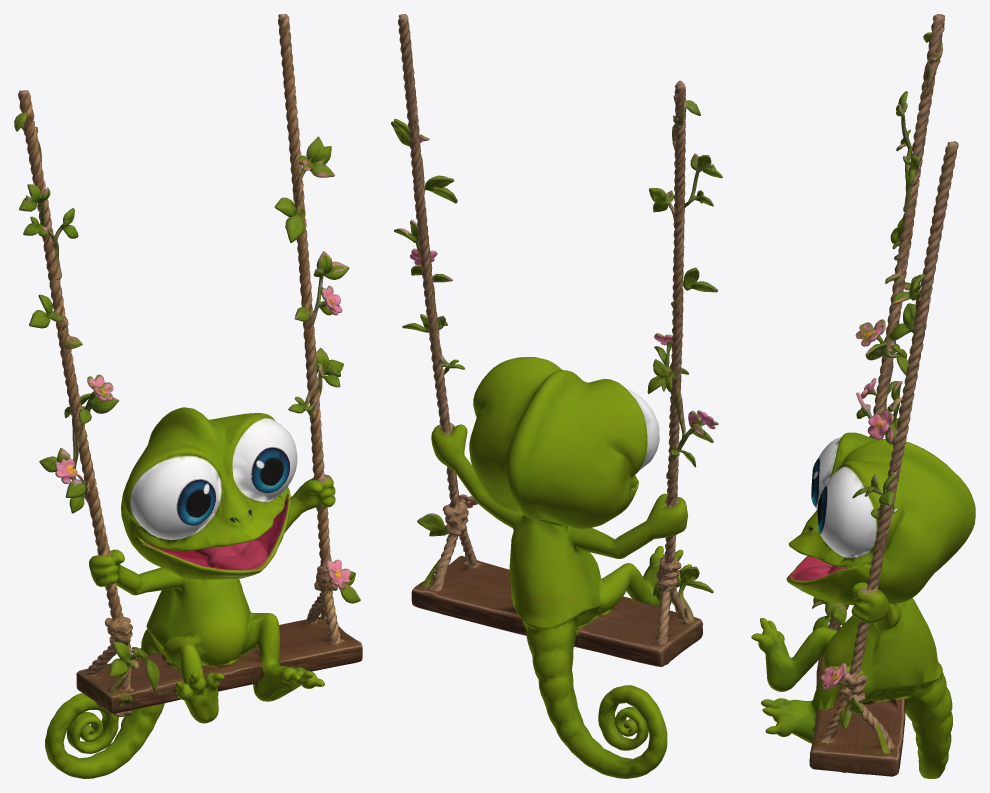
File: swinger.glb
3 views of the same model, side by side, from view 1: azimuth 30°, elevation 25°; view 2: azimuth 150°, elevation 25°; view 3: azimuth 270°, elevation 25° (orthographic). The views are drawn at different scales.
Size of the model in its own units: 0.9211 by 1.9 by 0.5292.
1 material, 1 textured.
